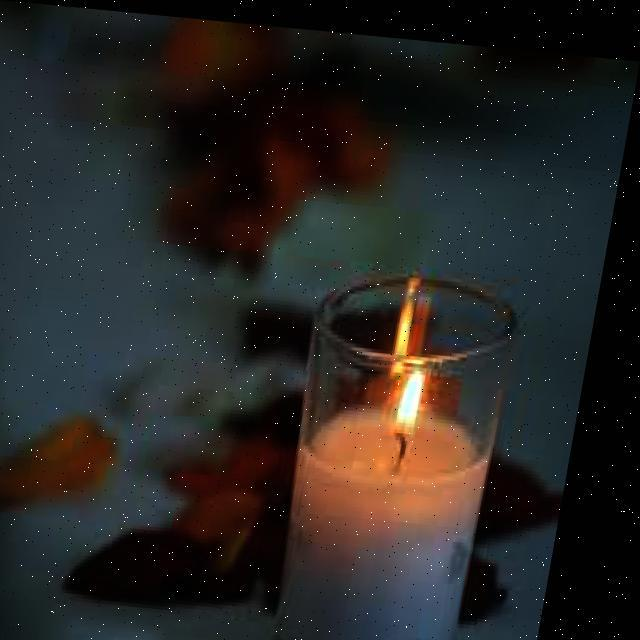Fire: (392, 345, 445, 429)
